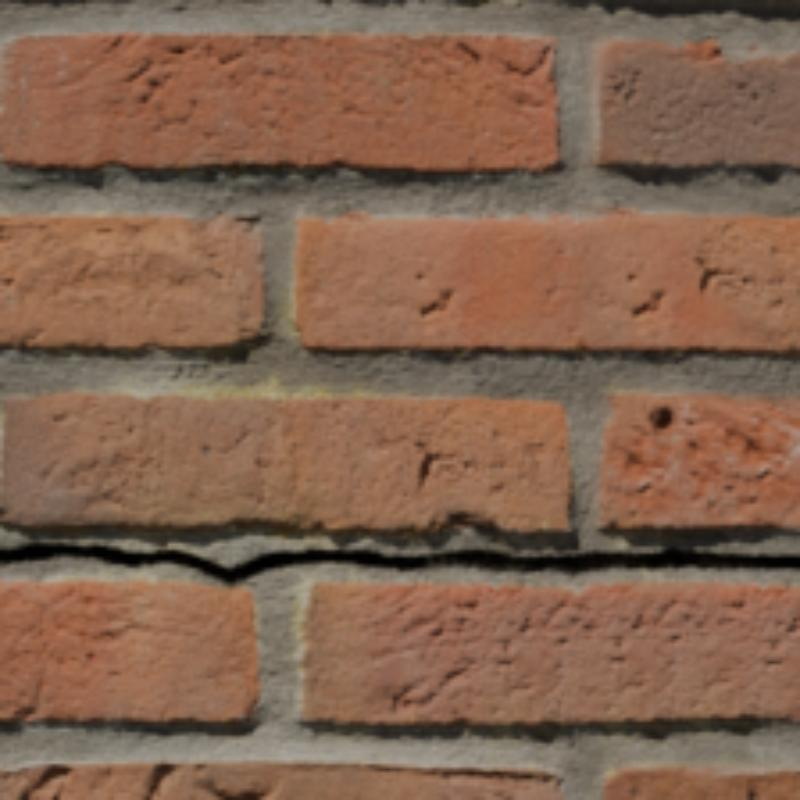pothole: (0, 543, 796, 579)
